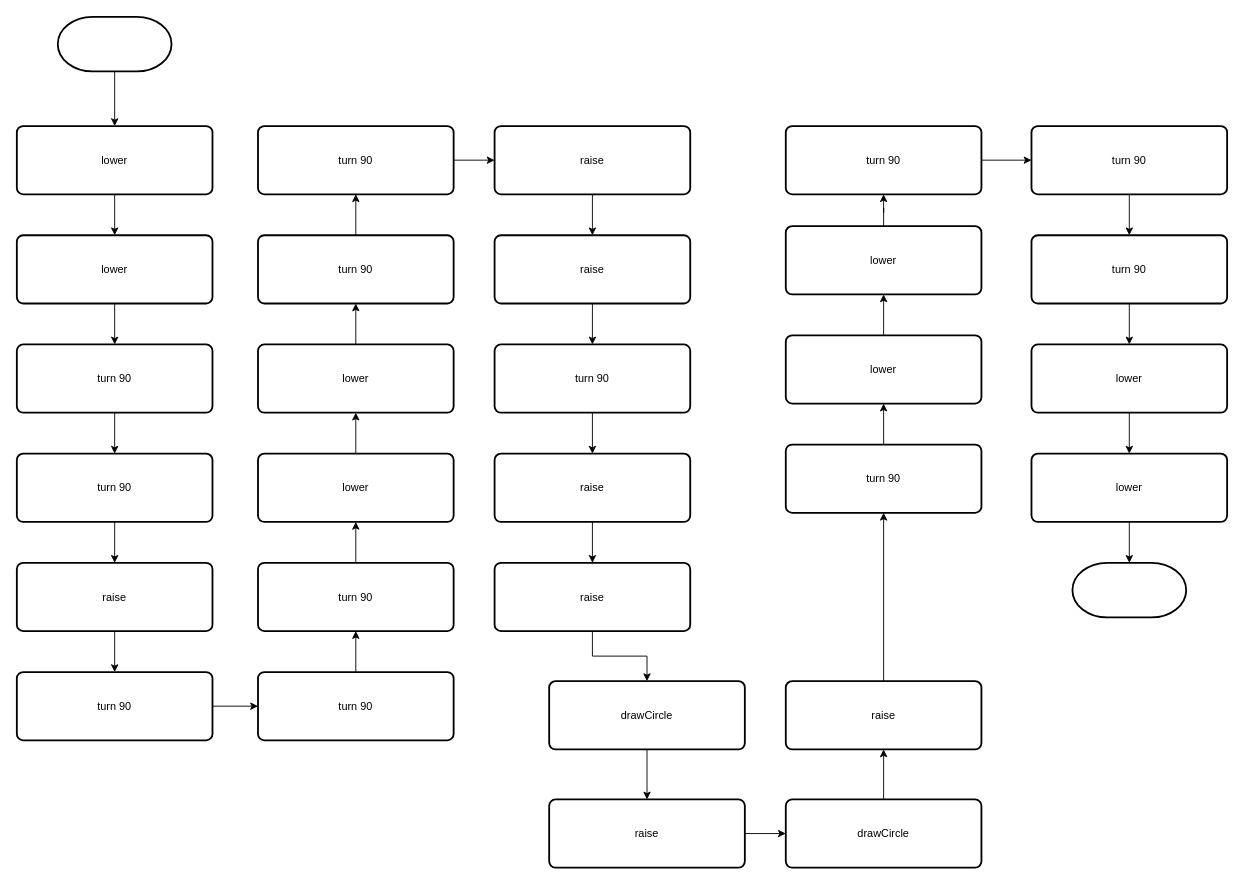
Image size: 1243x884. Some labels were removed from this diagram. Here are the shapes that lost their labels. From the top down, the centre of each, then its label:
At point (114, 43): "start".
At point (1129, 589): "end".
